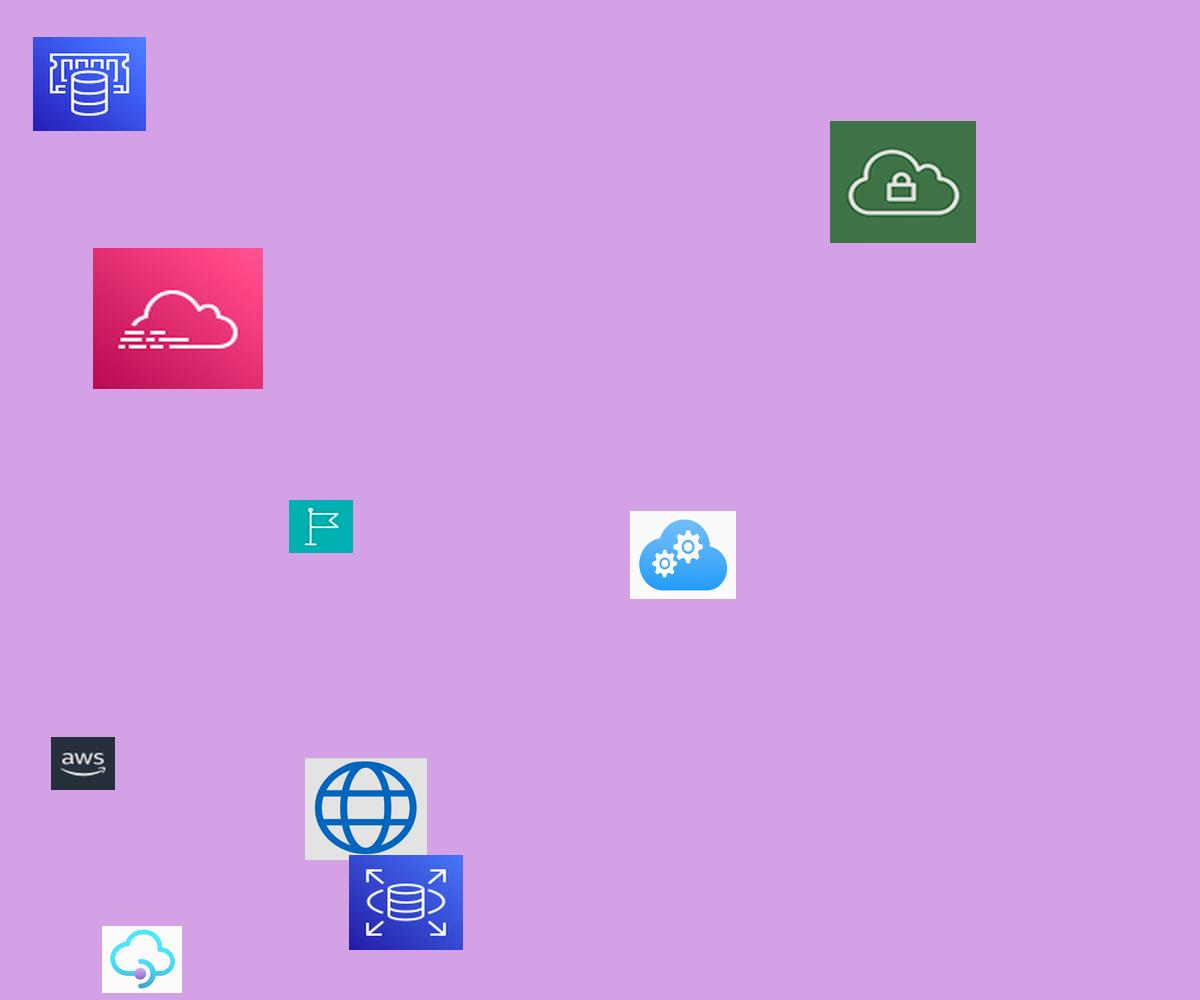AWS-Cloud-logo: (51, 737, 115, 790)
AWS-CloudTrail: (93, 248, 263, 389)
AWS-ElastiCache: (33, 37, 146, 131)
AWS-Private_vpc: (830, 121, 976, 243)
AWS-RDS: (349, 855, 463, 950)
AWS-Region: (289, 500, 353, 553)
Azure_api_gateway: (102, 926, 182, 993)
Azure_cloud_services: (630, 511, 736, 599)
Azure_http: (305, 758, 427, 860)
